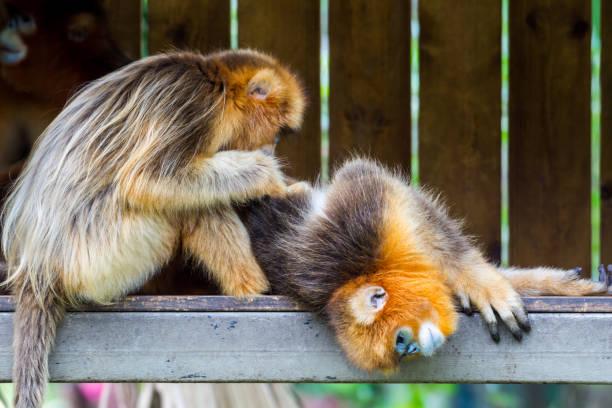GoldenSnub-Nosed: (12, 57, 303, 335), (267, 178, 533, 357), (1, 9, 65, 153)
